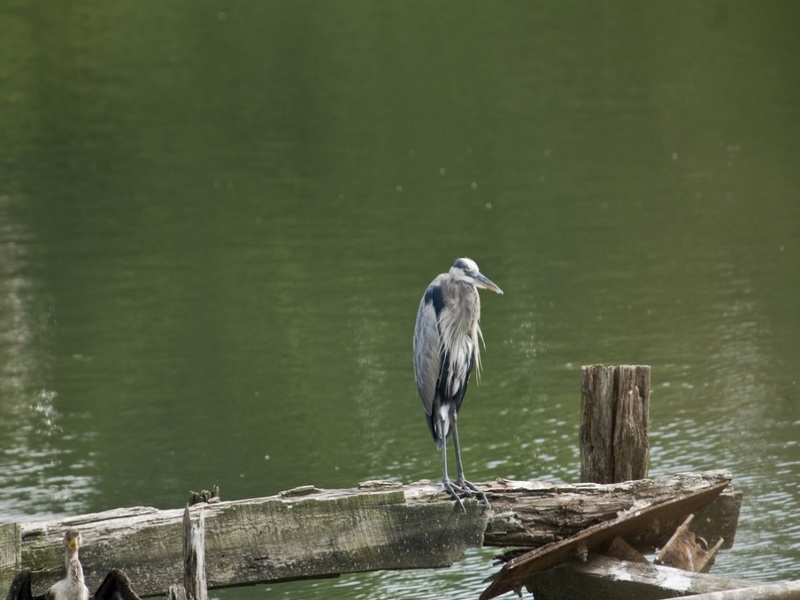heron: (410, 250, 505, 508)
